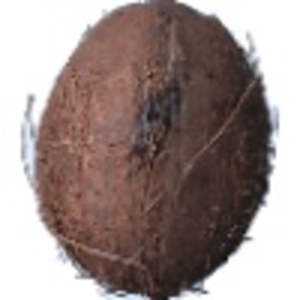coco: (22, 1, 281, 300)
